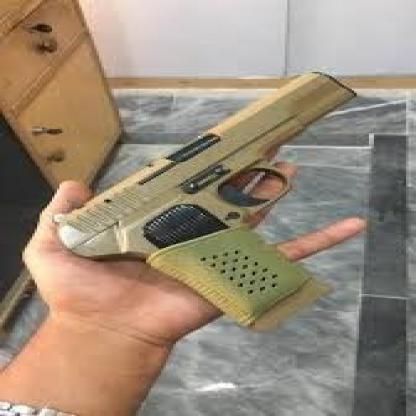Pistol: (47, 67, 359, 330)
